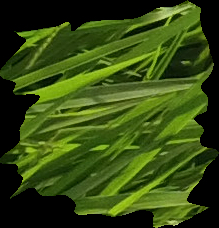grass: (1, 1, 217, 226)
